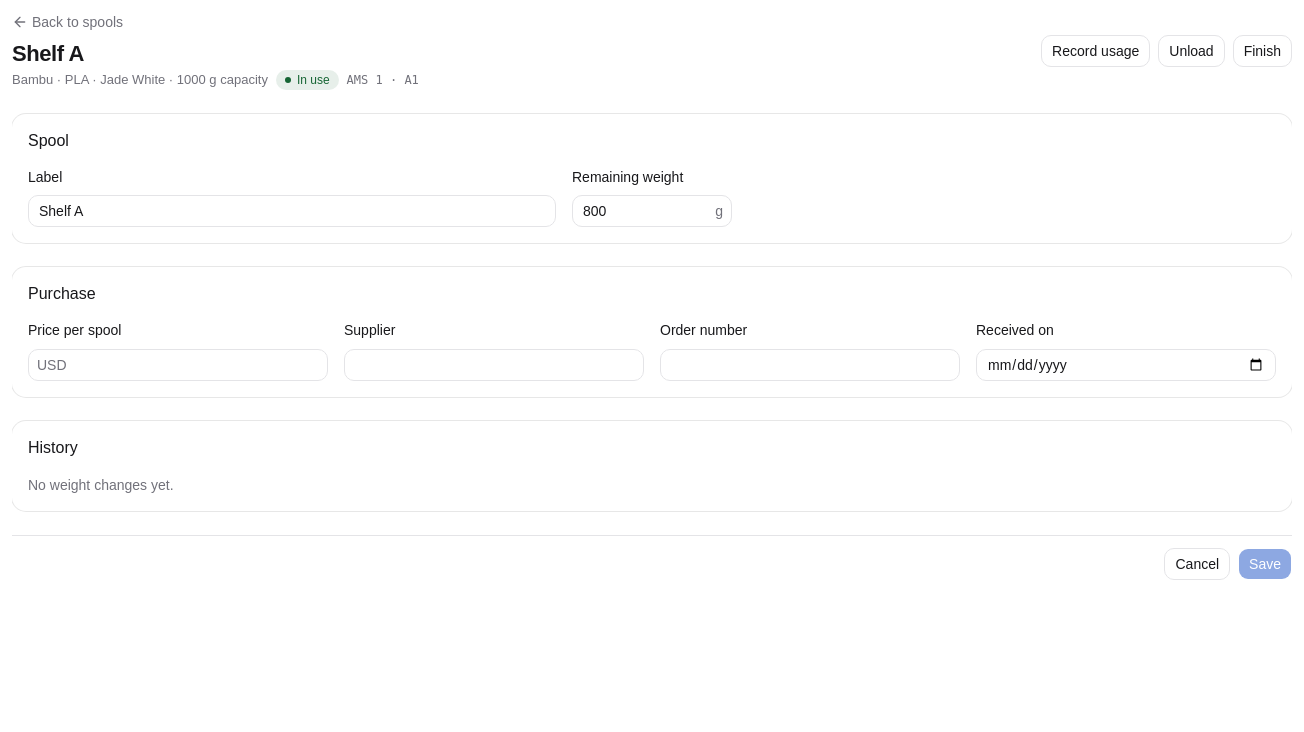
Test: SpoolDetailPage › loads the one spool by id and saves label and remaining weight in one PUT
The image size is (1304, 732).
Expected: the heading "Shelf A" is shown, x1=12 y1=41 x2=84 y2=66
Expected: the text "In use" is shown, x1=276 y1=70 x2=339 y2=90
Replace the text in the number field labelled "Remaining weight" with "1200" at [644, 211], box x1=573 y1=195 x2=715 y2=227
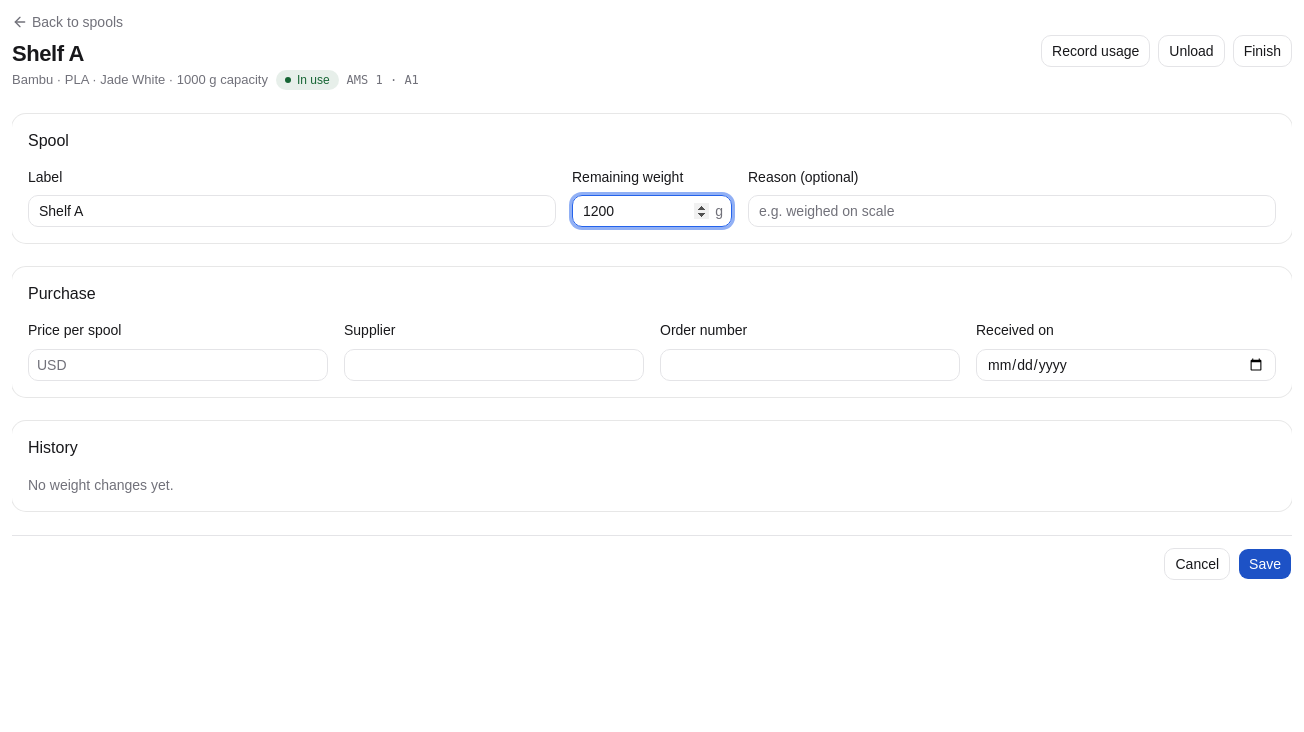
Click the button "Save" at [1265, 564], box x1=1238 y1=548 x2=1292 y2=580
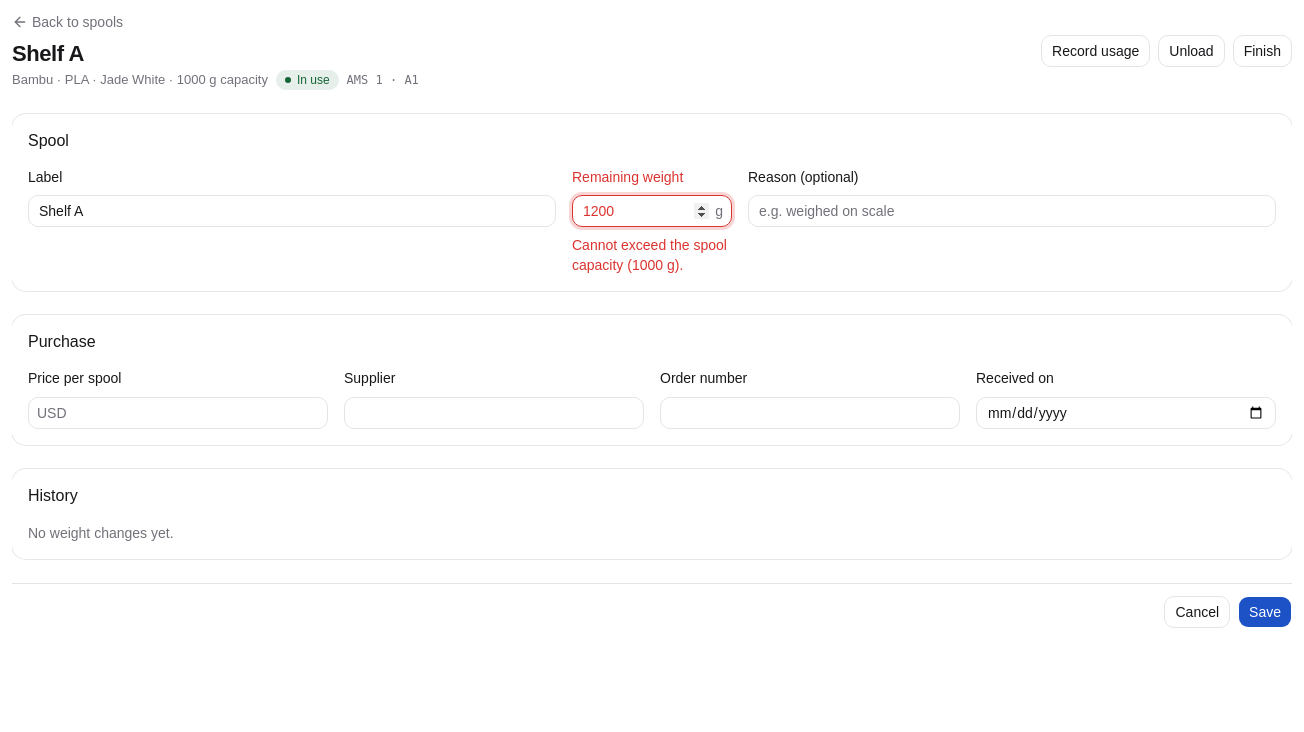
Expected: the text "Cannot exceed the spool capacity (1000 g)." is shown, x1=572 y1=235 x2=732 y2=275
Clear the field labelled "Label" at [292, 211], box x1=28 y1=195 x2=556 y2=227
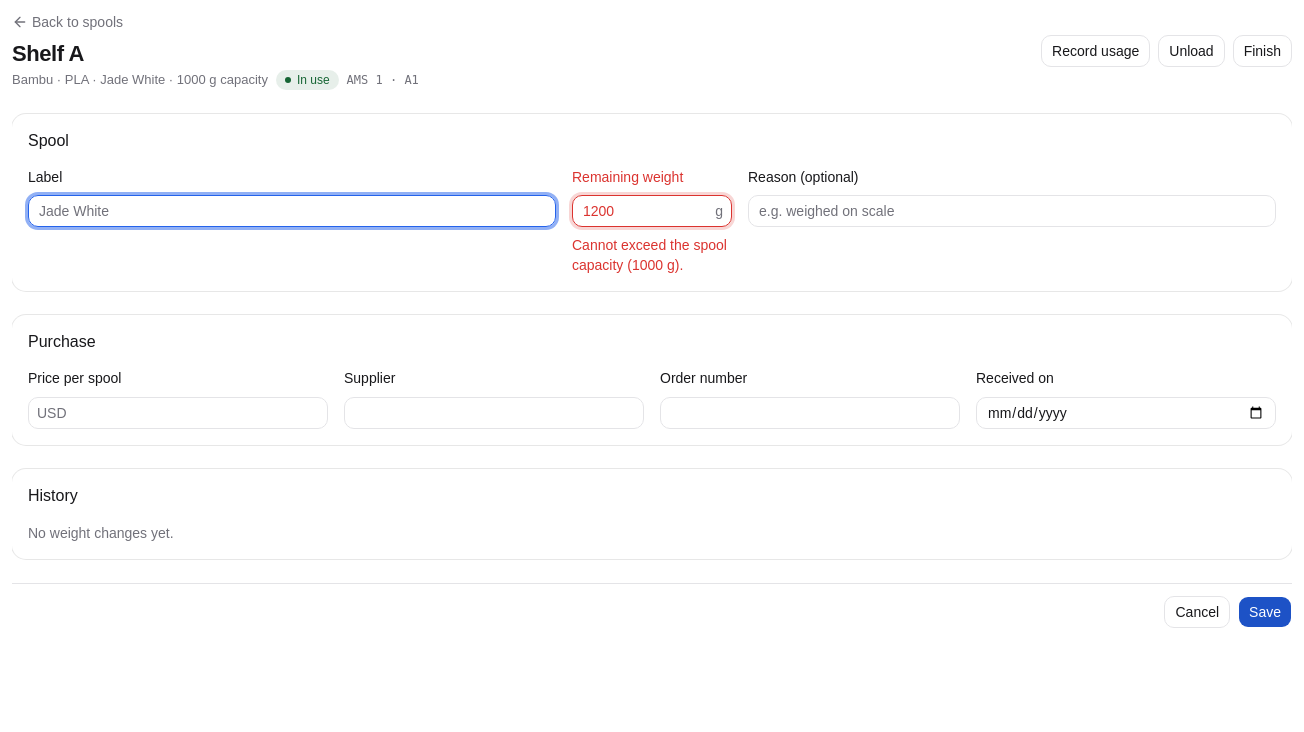
Replace the text in the number field labelled "Remaining weight" with "650" at [644, 211], box x1=573 y1=195 x2=715 y2=227
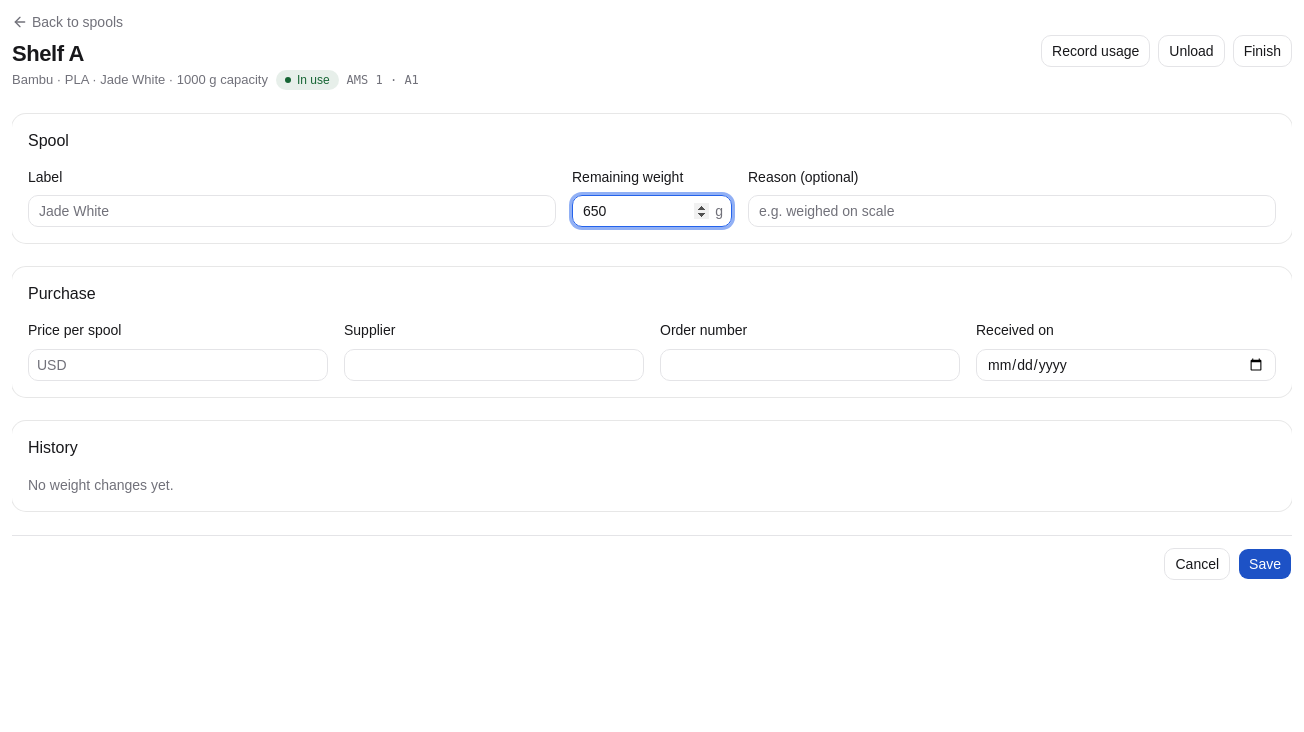
Click the button "Save" at [1265, 564], box x1=1238 y1=548 x2=1292 y2=580
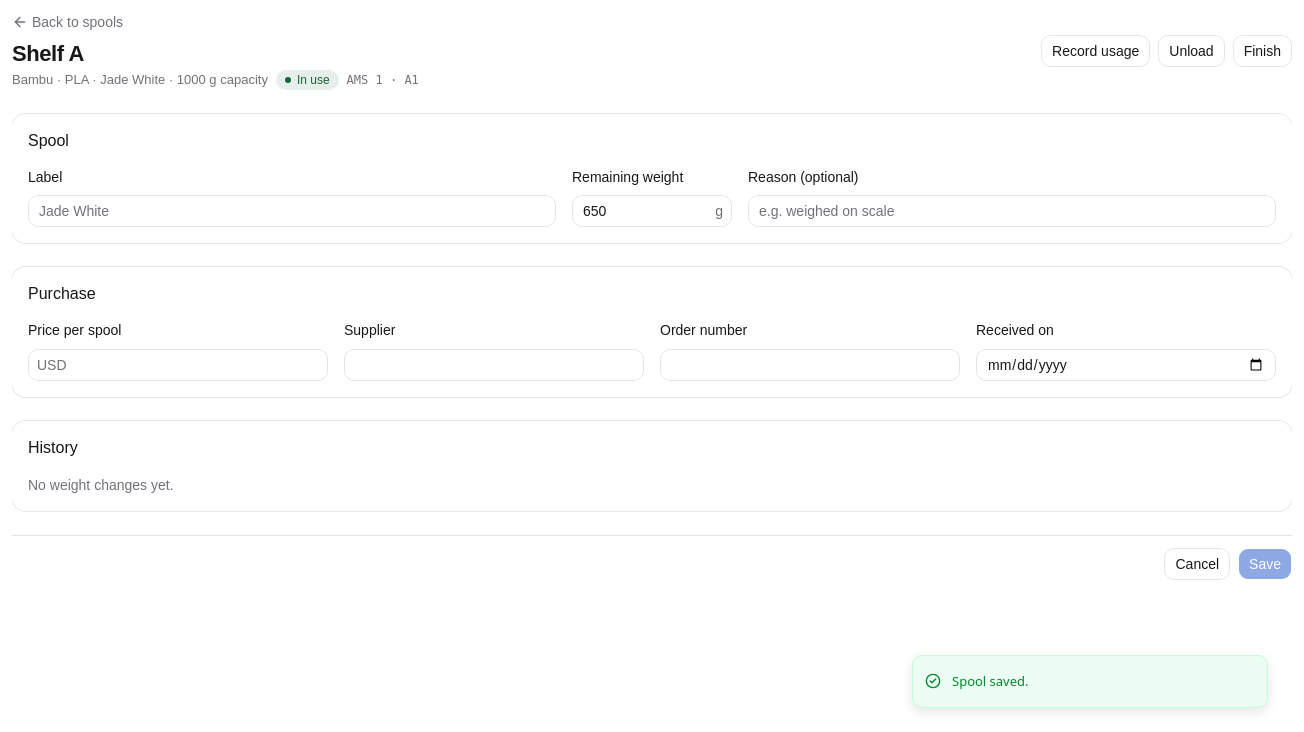
Expected: the text "Spool saved." is shown, x1=952 y1=672 x2=1028 y2=691
